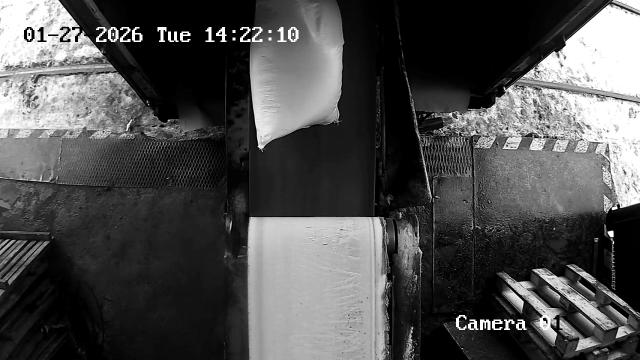bag: (250, 0, 345, 150)
